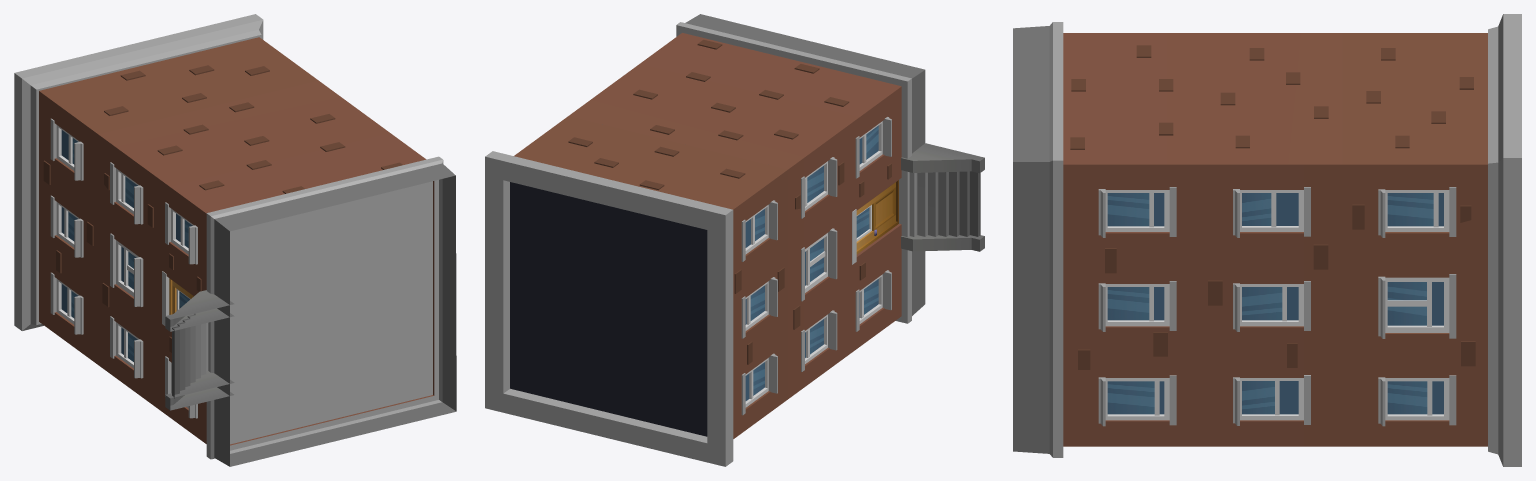
File: Building_2_4_D.fbx
3 renders of one model, left to right at view 1: azimuth 30°, elevation 25°; view 2: azimuth 150°, elevation 25°; view 3: azimuth 270°, elevation 25°, orthographic. The views are drawn at different scales.
Visible parts, largest first — view 1: Building_2_4_D; view 2: Building_2_4_D; view 3: Building_2_4_D.
Boxes of the visible parts, <box> form: Building_2_4_D: <box>14,14,456,466</box>; Building_2_4_D: <box>485,14,984,466</box>; Building_2_4_D: <box>1013,14,1521,466</box>.
Bounding box in the file's own units: 754 × 620 × 926.
